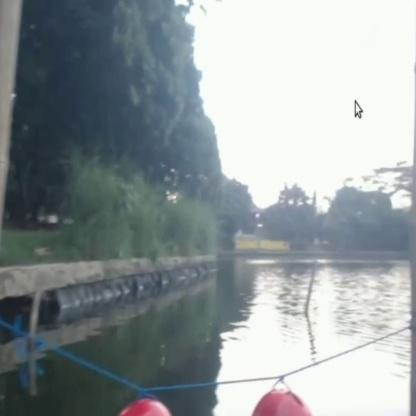red_buoy: (254, 388, 312, 415), (117, 397, 171, 412)
